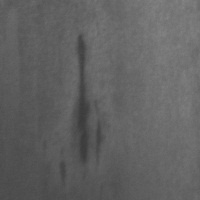inclusion: (66, 31, 110, 172)
